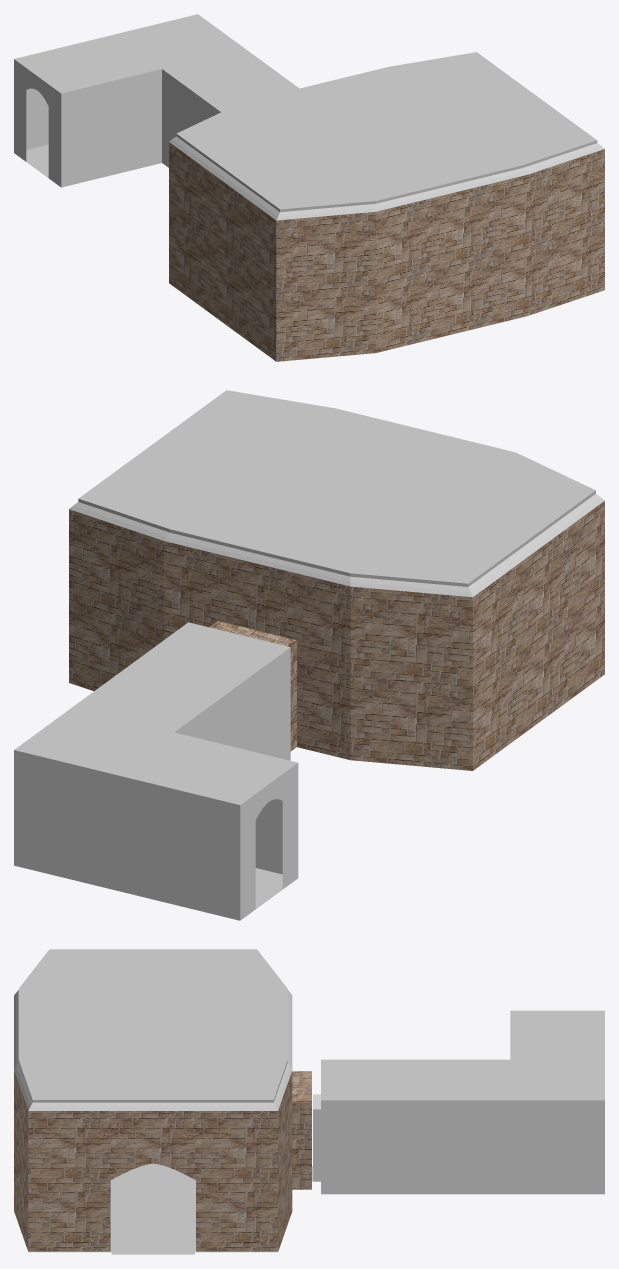
3 renders of one model, top to bottom at view 1: azimuth 30°, elevation 25°; view 2: azimuth 150°, elevation 25°; view 3: azimuth 270°, elevation 25°, orthographic. The views are drawn at different scales.
Parts seen in each view (by area): view 1: Castle-Hall2, CorrRoom; view 2: Castle-Hall2, CorrRoom; view 3: Castle-Hall2, CorrRoom.
Boxes of the visible parts, <box> form: Castle-Hall2: <box>169,52,604,361</box>; CorrRoom: <box>14,14,299,187</box>; Castle-Hall2: <box>69,390,604,770</box>; CorrRoom: <box>14,622,298,920</box>; Castle-Hall2: <box>14,949,313,1254</box>; CorrRoom: <box>313,1010,604,1194</box>.
Size of the model in its own units: 358 by 158 by 564.
